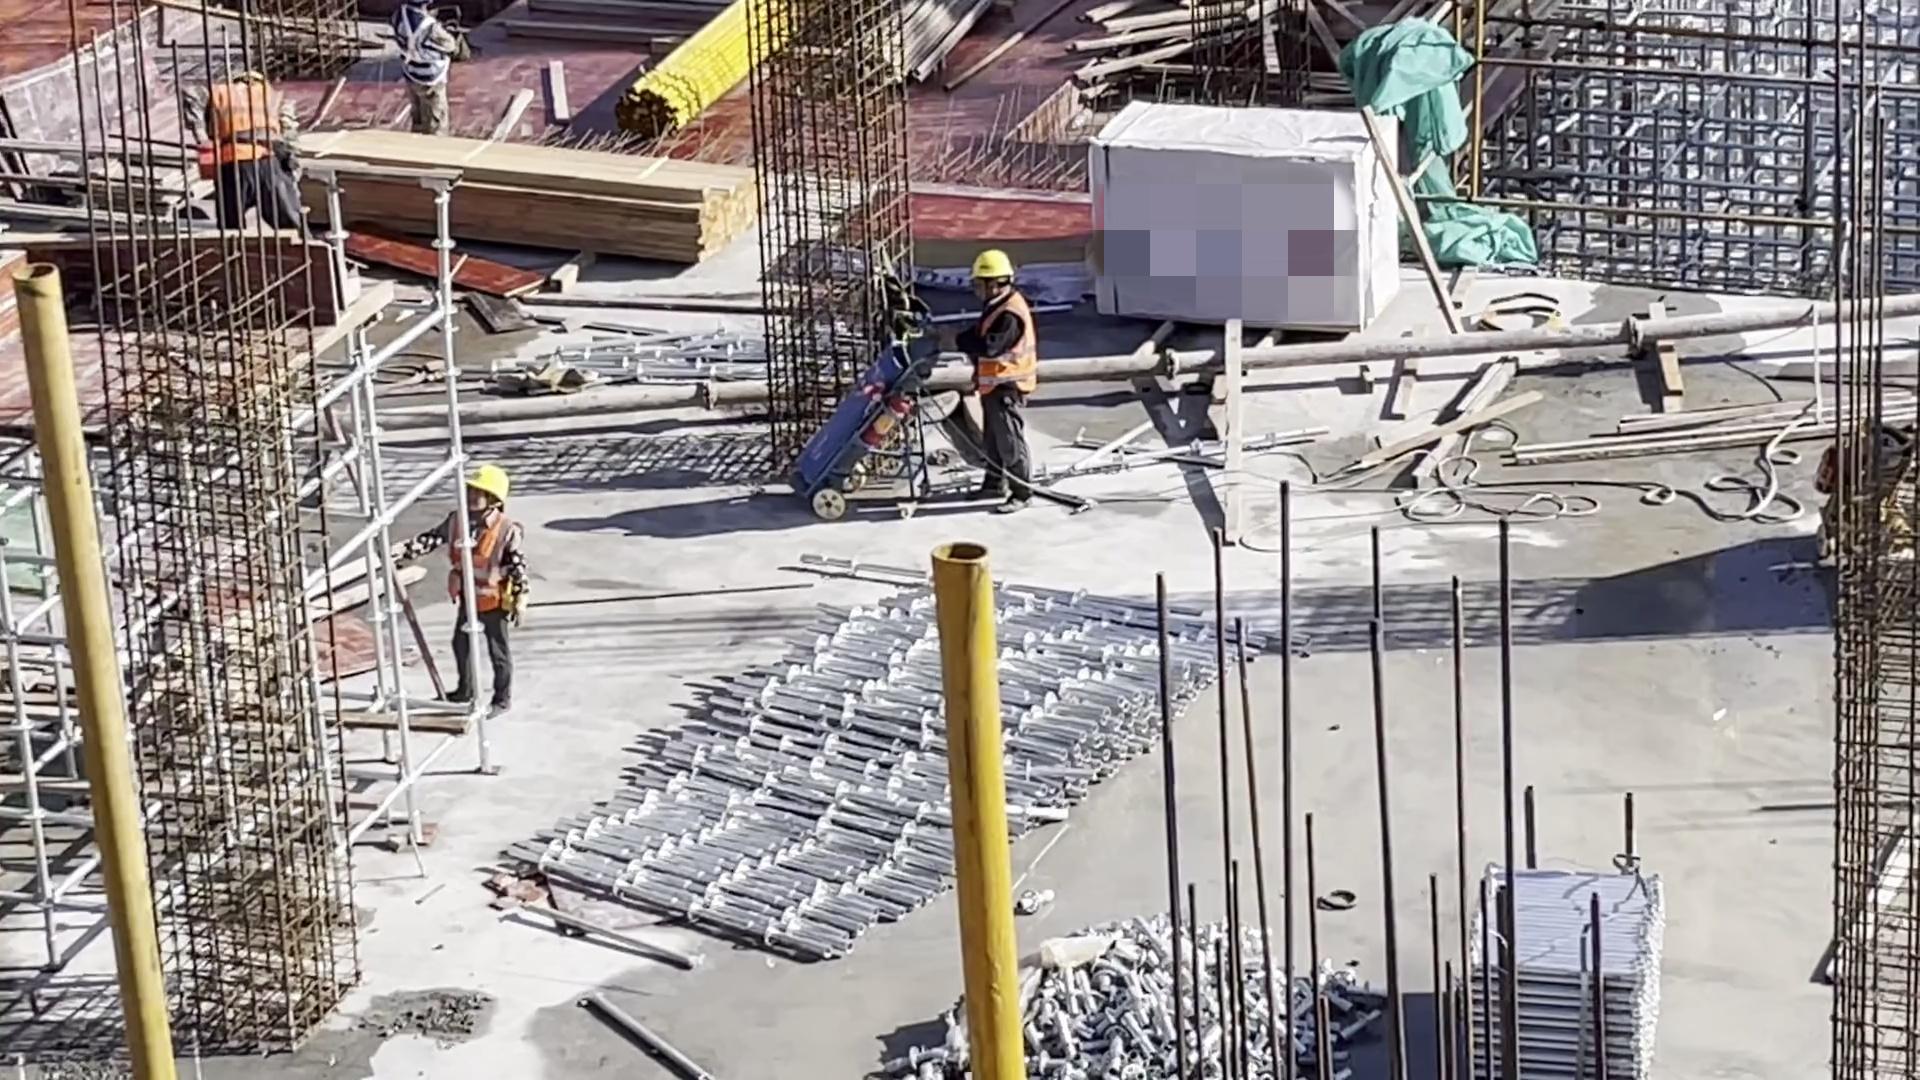helmet: (462, 466, 517, 514), (973, 245, 1010, 286)
person: (388, 468, 533, 717), (948, 246, 1049, 513), (180, 57, 312, 228), (393, 1, 480, 145)
scaffold: (507, 549, 1310, 968), (1463, 859, 1666, 1080)
vest: (443, 512, 514, 613), (972, 294, 1032, 393), (214, 82, 281, 161), (398, 10, 450, 80)
wood: (306, 132, 755, 261)
